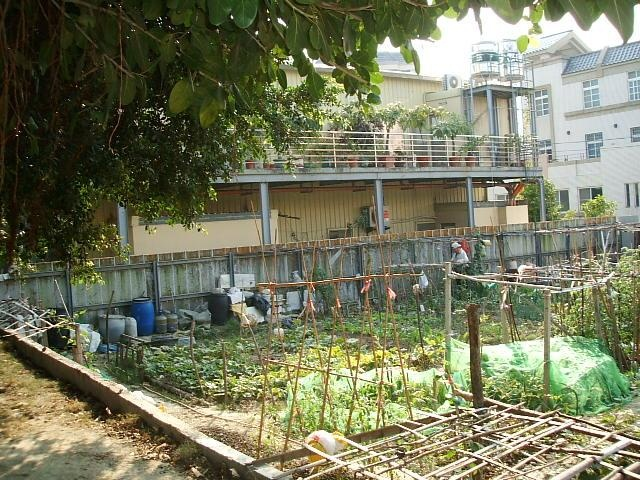bowl: (99, 314, 125, 343)
bucket: (132, 296, 155, 337), (209, 292, 232, 326), (283, 288, 303, 312), (126, 316, 138, 338)
water_tower: (469, 38, 500, 86), (498, 38, 529, 86)
